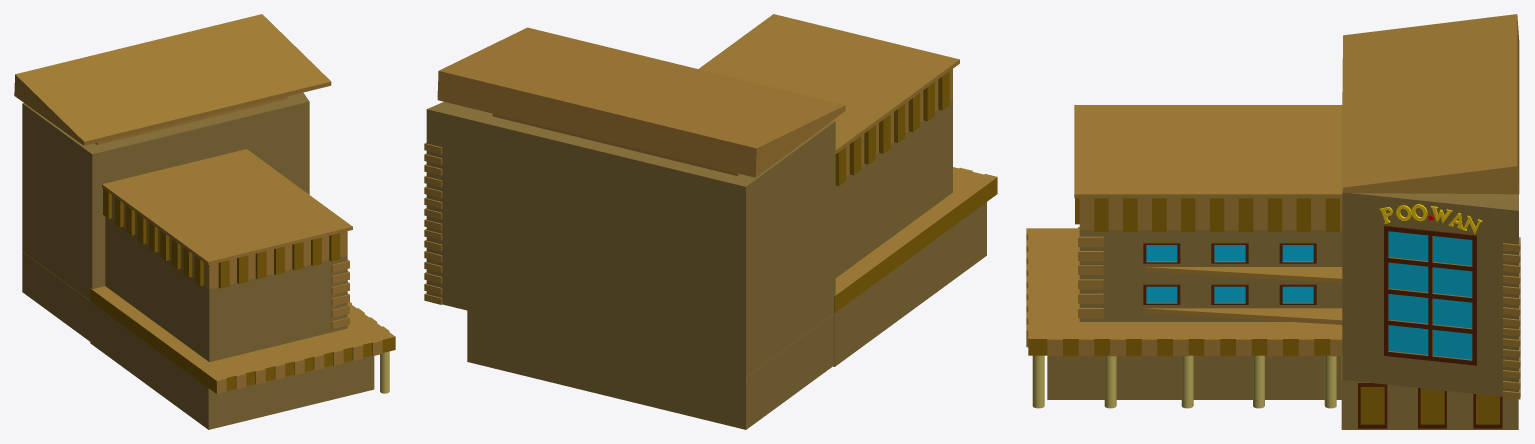
File: poowan.fbx
3 renders of one model, left to right at view 1: azimuth 30°, elevation 25°; view 2: azimuth 150°, elevation 25°; view 3: azimuth 270°, elevation 25°, orthographic. The views are drawn at different scales.
Visible parts, largest first — view 1: Cube.006, Cube.002, Cube.003, Cube.057, Cube, Cube.056, Cube.054, Cube.030, Cube.001, Cube.053, Cube.031, Cube.028 (+2 smaller); view 2: Cube.002, Cube.006, Cube.001, Cube.057, Cube.003, Cube, Cube.056, Cube.030, Cube.054, Cube.031, Cube.005; view 3: Cube.006, Cube.057, Cube.002, Cube.003, Cube, Cube.066, Cube.053, Cube.054, Cube.056, Cube.031, Cube.055, Cube.062 (+14 smaller).
Boxes of the visible parts, x1,y1,x2,y2 form: Cube.006: [14, 14, 331, 145]; Cube.002: [22, 92, 309, 300]; Cube.003: [105, 217, 347, 362]; Cube.057: [102, 149, 352, 264]; Cube: [90, 302, 374, 429]; Cube.056: [103, 188, 340, 288]; Cube.054: [90, 286, 373, 374]; Cube.030: [90, 288, 395, 393]; Cube.001: [22, 251, 90, 341]; Cube.053: [209, 302, 389, 394]; Cube.031: [112, 195, 347, 289]; Cube.028: [219, 304, 395, 377]; Cube.002: [426, 102, 835, 377]; Cube.006: [437, 27, 845, 177]; Cube.001: [467, 310, 834, 429]; Cube.057: [698, 14, 959, 153]; Cube.003: [835, 99, 952, 277]; Cube: [833, 202, 986, 366]; Cube.056: [835, 71, 949, 185]; Cube.030: [834, 178, 996, 312]; Cube.054: [834, 176, 986, 296]; Cube.031: [846, 69, 952, 176]; Cube.005: [492, 113, 740, 176]; Cube.006: [1343, 14, 1519, 194]; Cube.057: [1074, 105, 1342, 198]; Cube.002: [1342, 58, 1518, 396]; Cube.003: [1079, 230, 1342, 321]; Cube: [1047, 355, 1341, 399]; Cube.066: [1388, 231, 1472, 359]; Cube.053: [1026, 228, 1342, 356]; Cube.054: [1047, 228, 1342, 330]; Cube.056: [1075, 198, 1339, 231]; Cube.031: [1079, 198, 1342, 229]; Cube.055: [1144, 267, 1342, 324]; Cube.062: [1384, 225, 1476, 365].
Bounding box in the file's own units: 1868 × 1545 × 2465.
